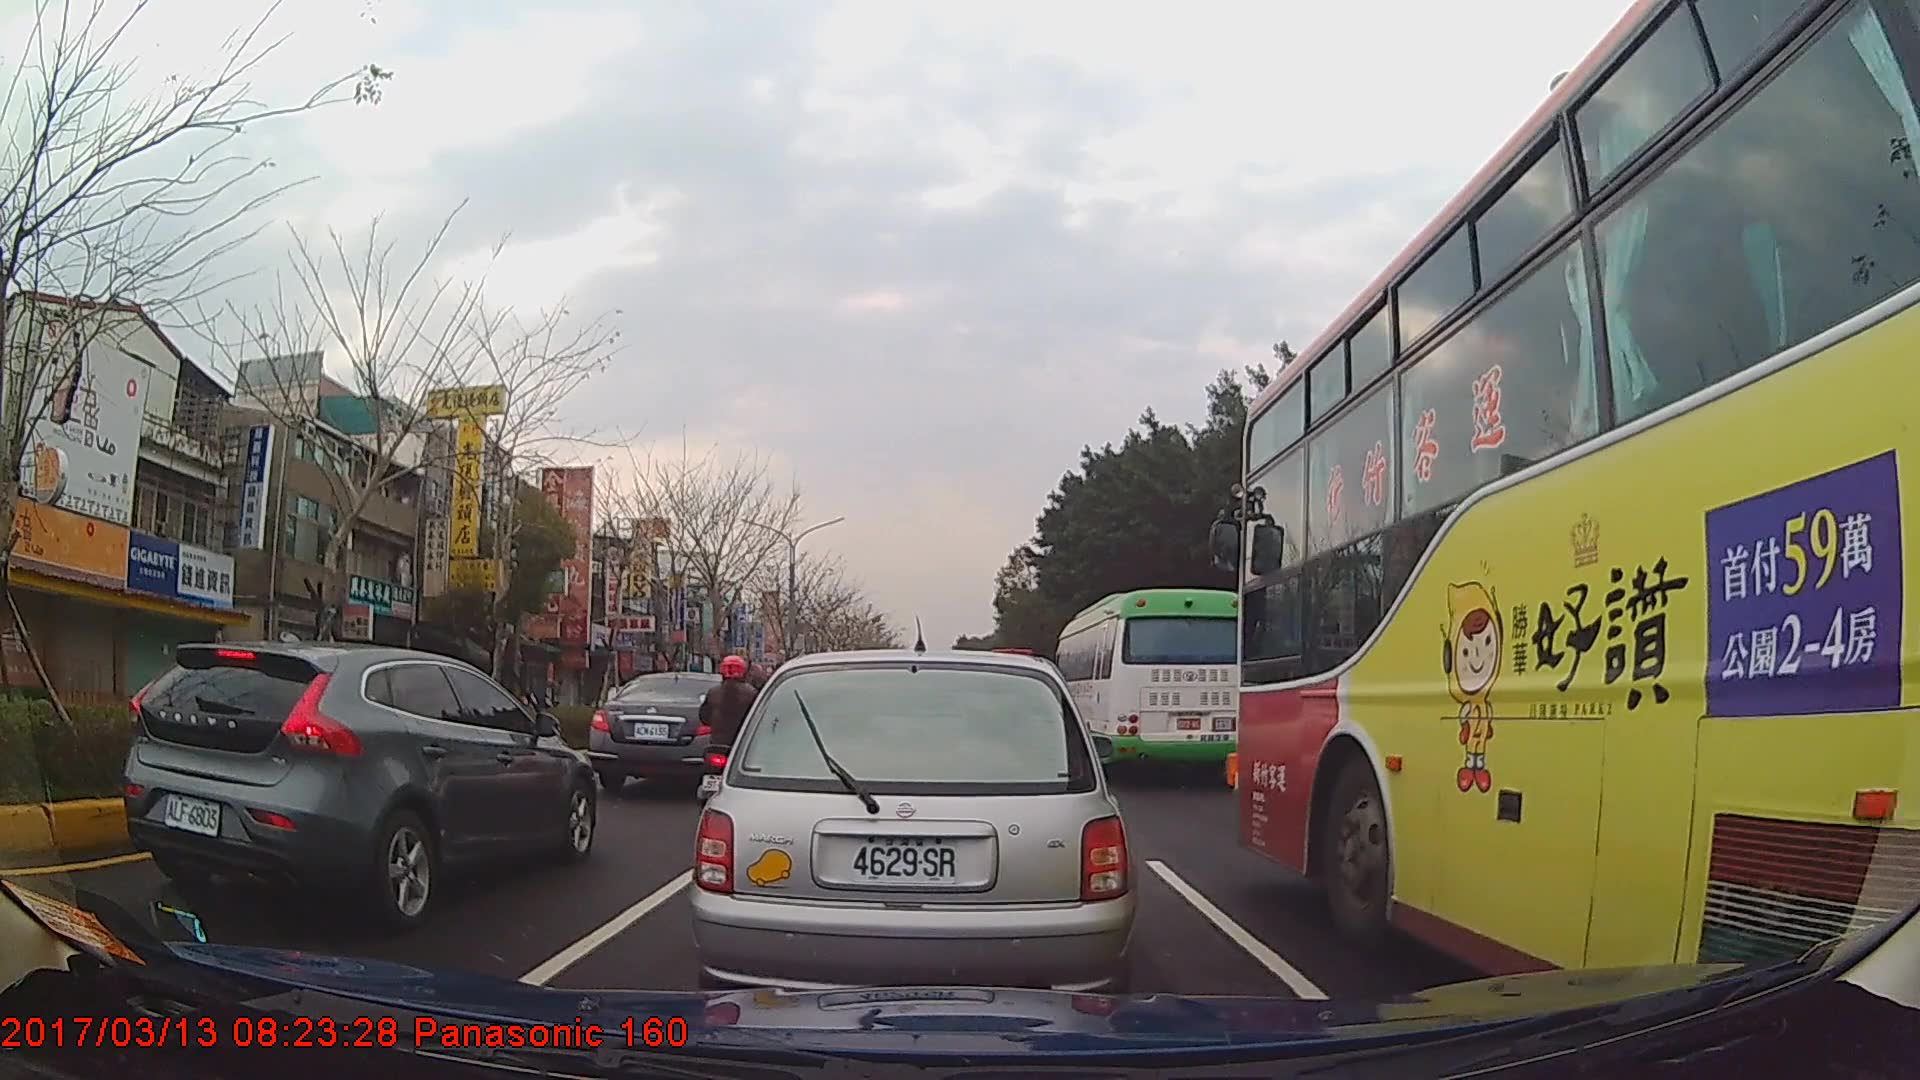rider: (697, 653, 773, 825)
vehicle: (1233, 0, 1920, 1005), (690, 644, 1135, 1010), (118, 639, 597, 930), (1050, 587, 1247, 780), (591, 669, 762, 793)
